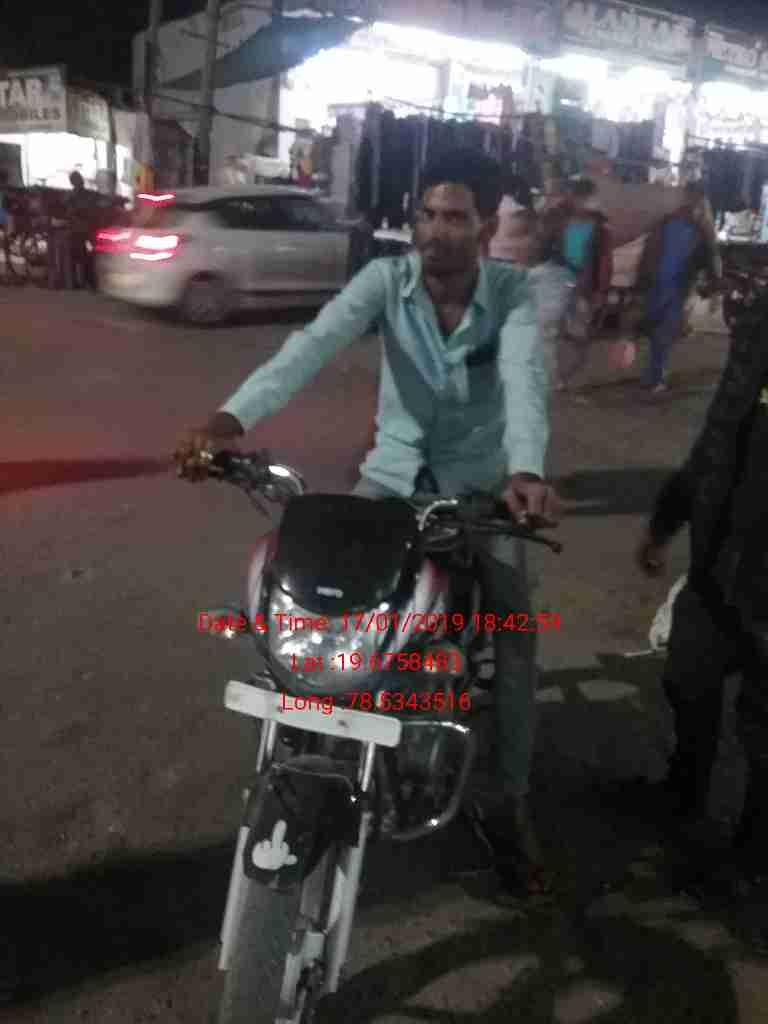plate: (221, 680, 405, 760)
